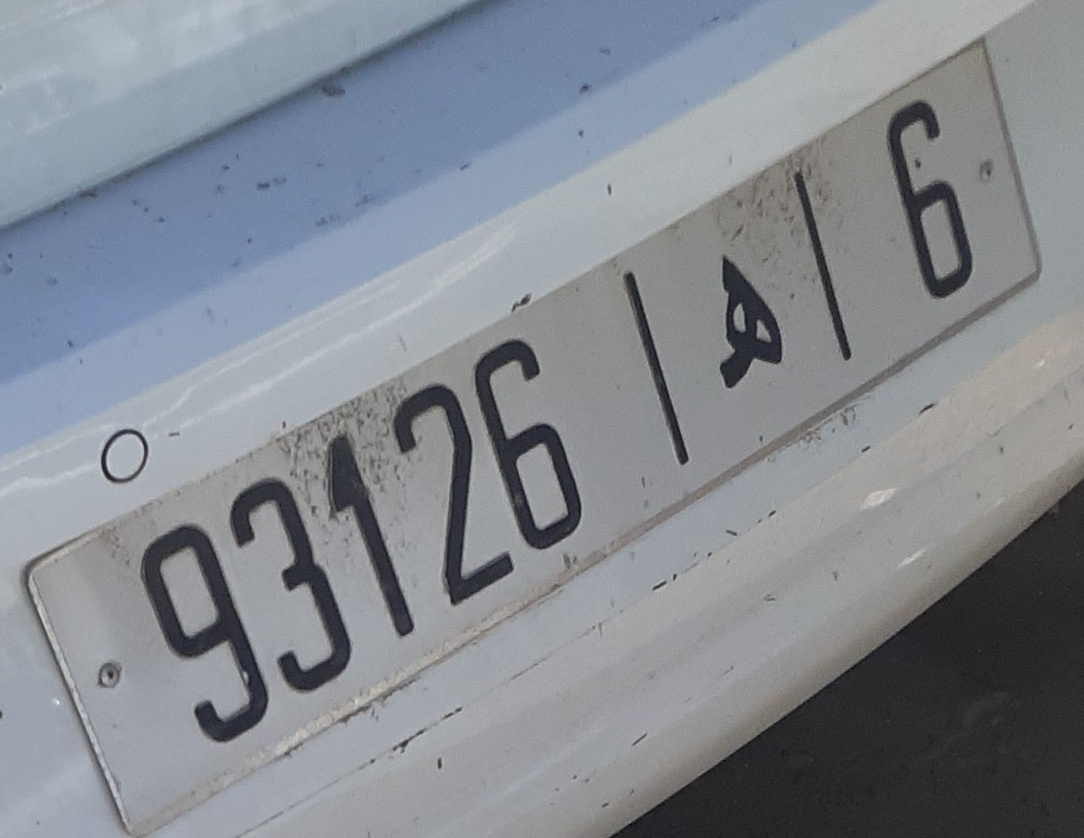1: (319, 410, 422, 641)
2: (388, 373, 520, 605)
3: (211, 471, 359, 694)
6: (465, 329, 585, 566), (871, 91, 1005, 296)
9: (118, 503, 284, 753)
h: (700, 246, 796, 398)
